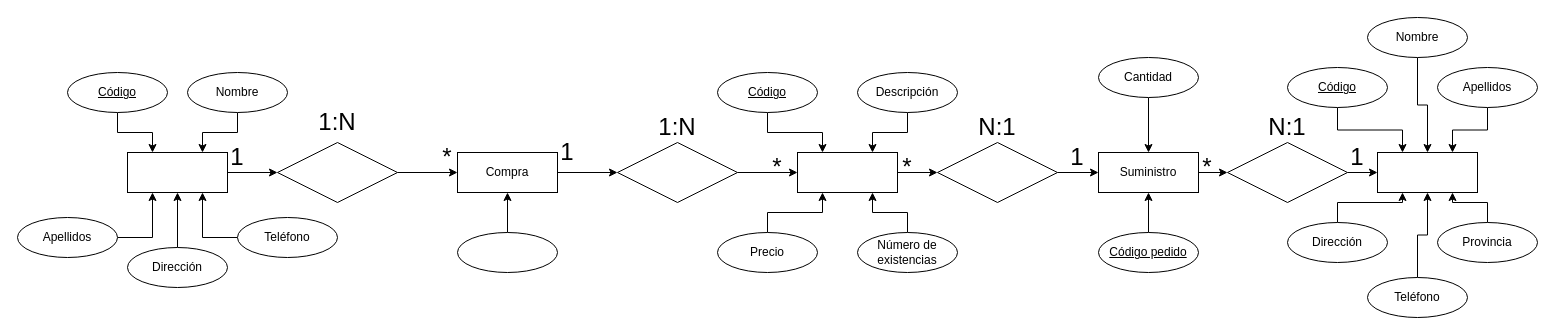
Some shapes in this 1555 by 335 pixel diagram are drawn without their labels. The shapes that lost their labels are listed below. From the top down, each one's box as (x1, y1, x2, y2) in pixels, then its label:
(126, 152, 228, 192): Cliente
(276, 142, 398, 202): Realiza
(616, 142, 738, 202): Proporciona
(796, 152, 898, 192): Producto
(936, 142, 1058, 202): Es proporcionado por
(1226, 142, 1348, 202): Es suministrado por
(1376, 152, 1478, 192): Proveedor
(456, 232, 558, 272): Código compra
